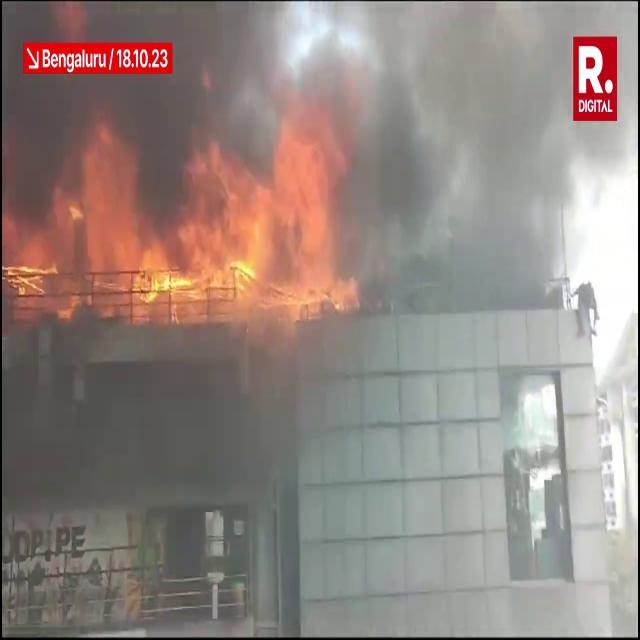Fire: (62, 115, 360, 316)
Smoke: (313, 0, 605, 325)
